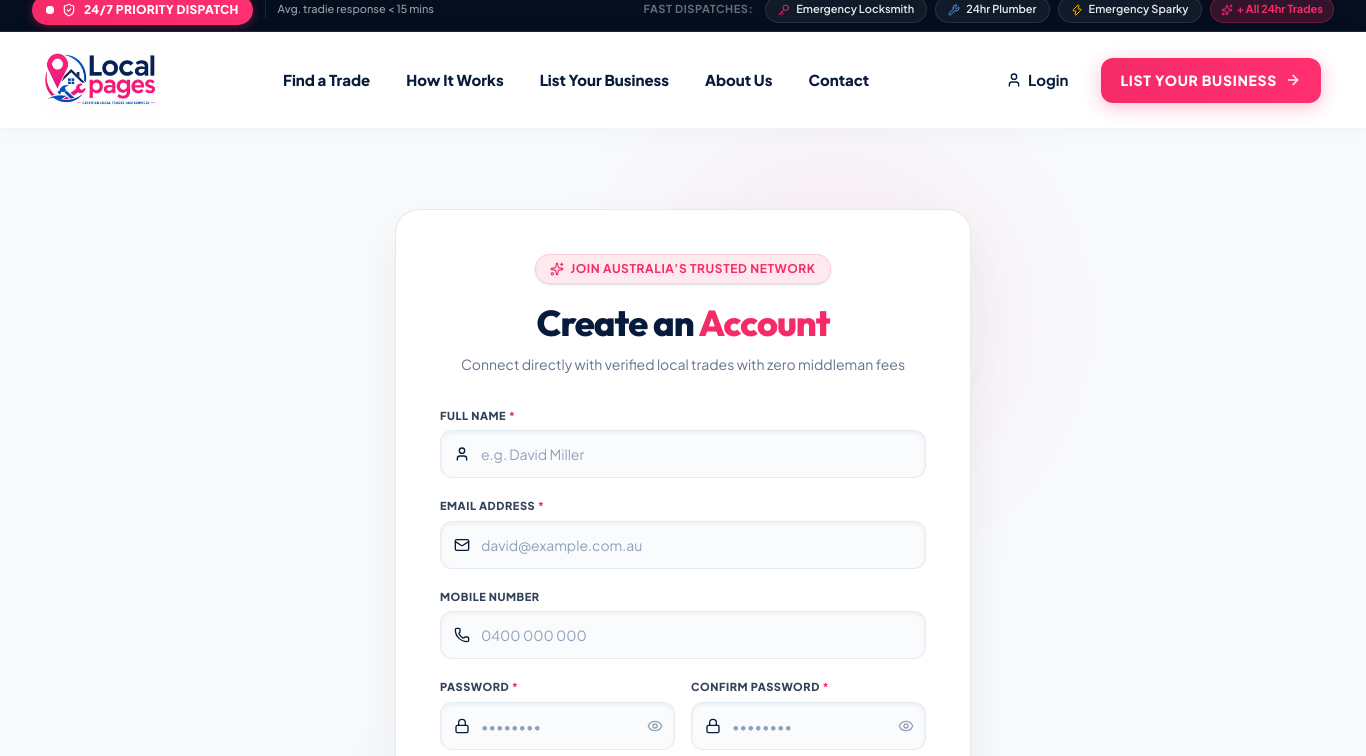
Auth Workflows › Registration › handles registration validation failure
Type "Test User" into the field labelled "Full Name *" at (683, 454), box [440,430,926,478]
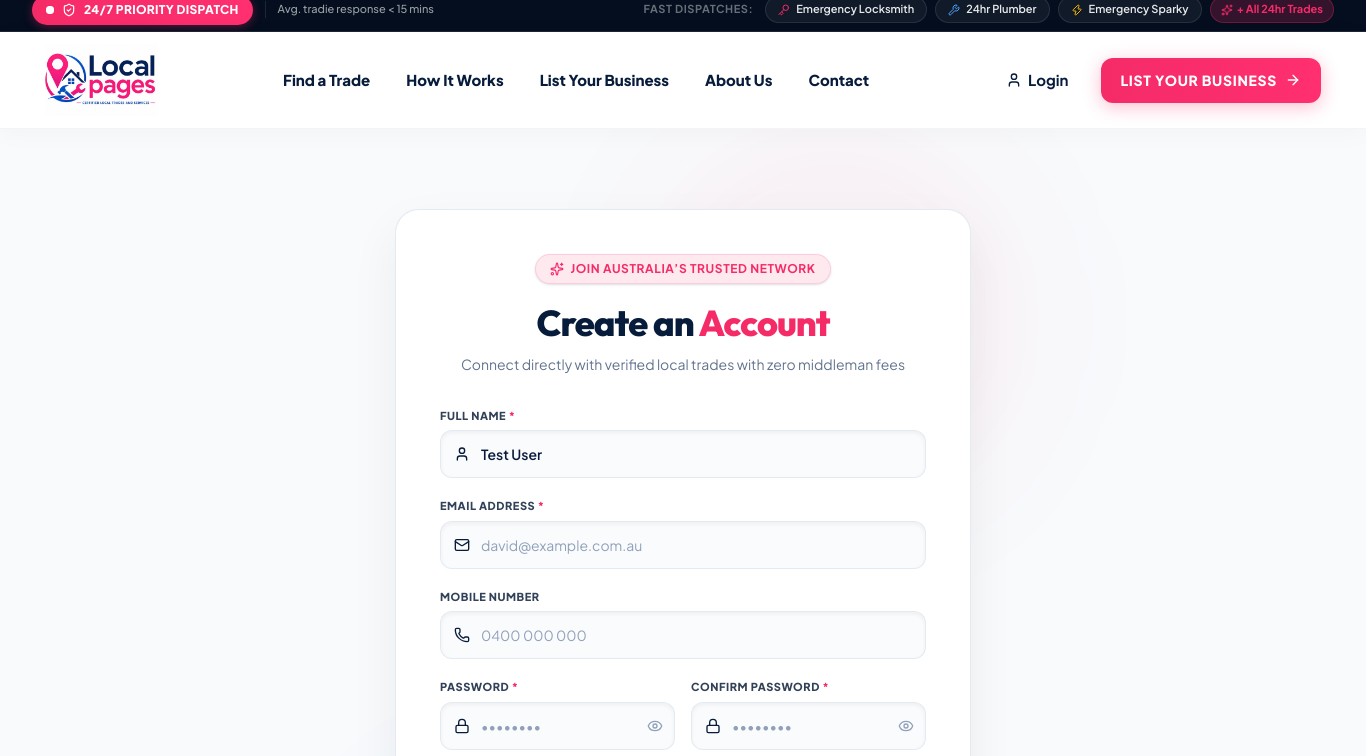
Type "test@test.com" into the field labelled "Email Address *" at (683, 545), box [440,521,926,569]
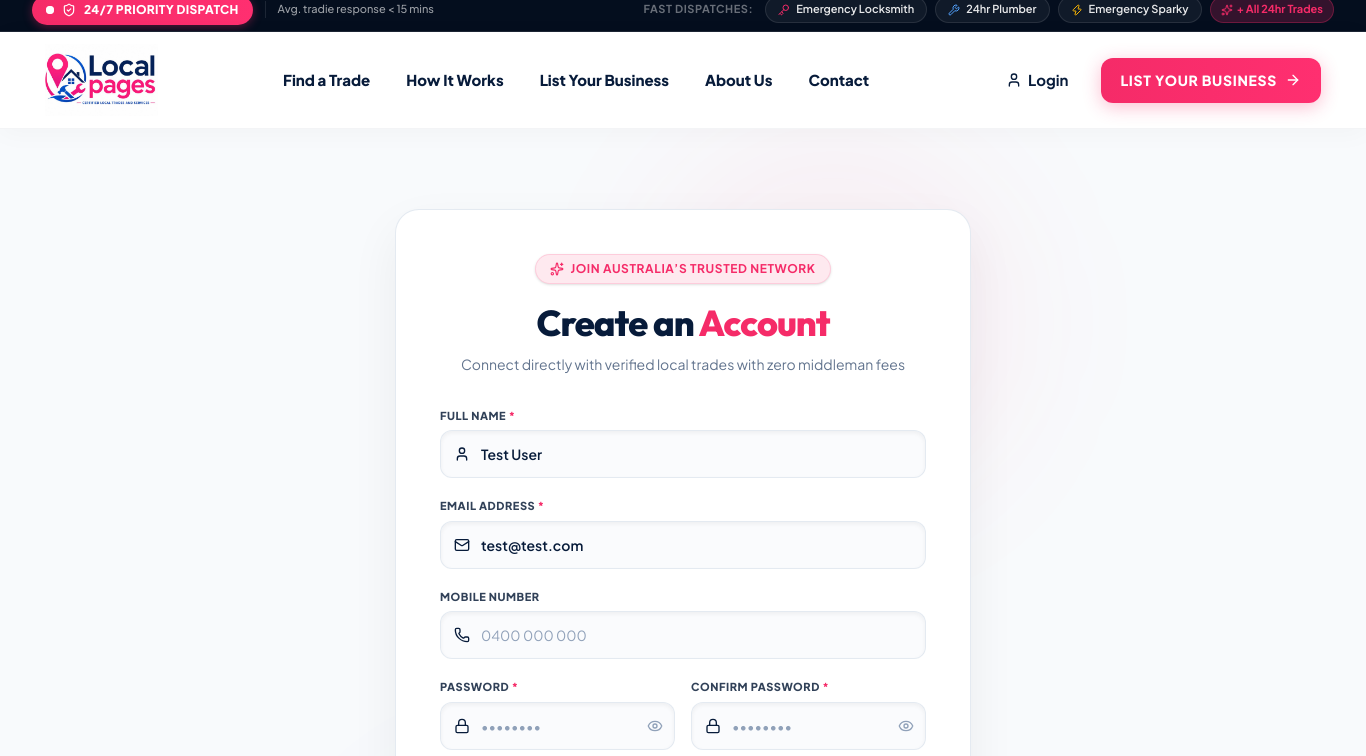
Type "password" into the password field labelled "Password *" at (558, 726), box [440,702,675,750]
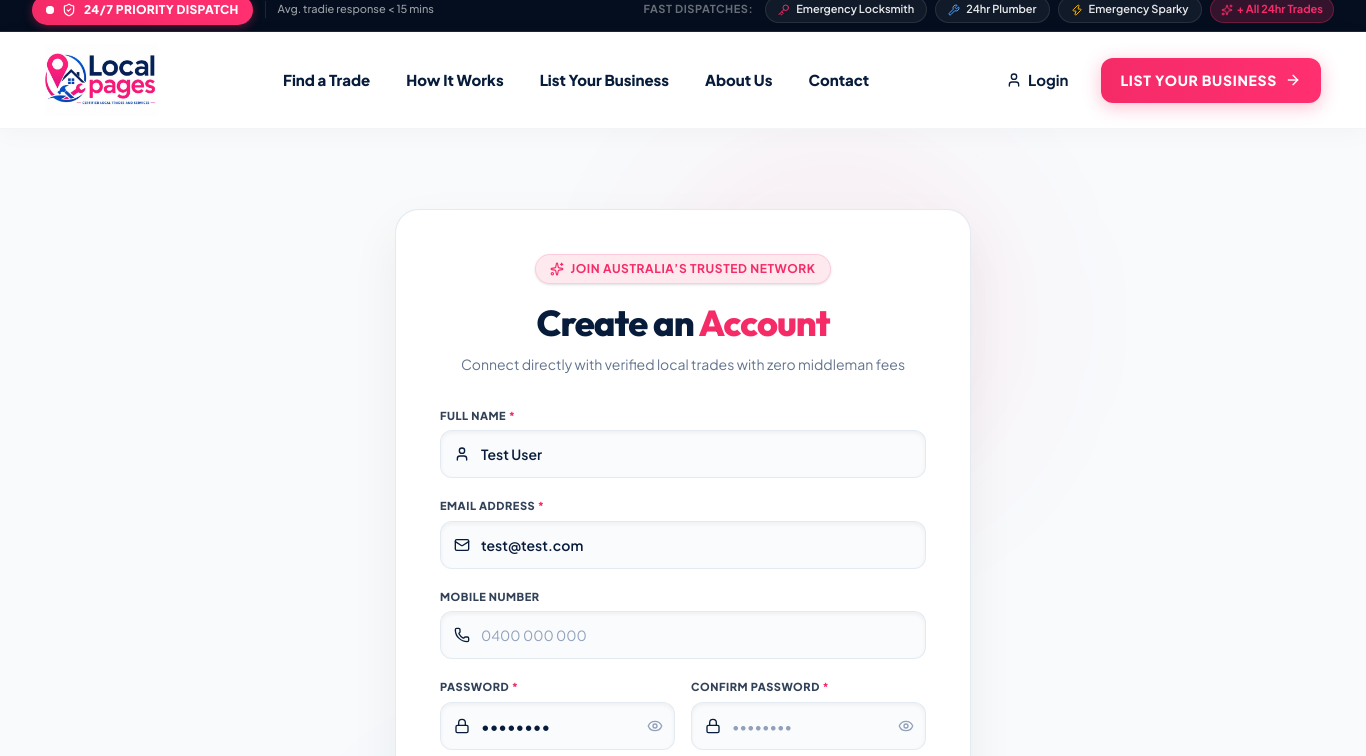
Type "password" into the password field labelled "Confirm Password *" at (808, 726), box [691,702,926,750]
(page scrolled)
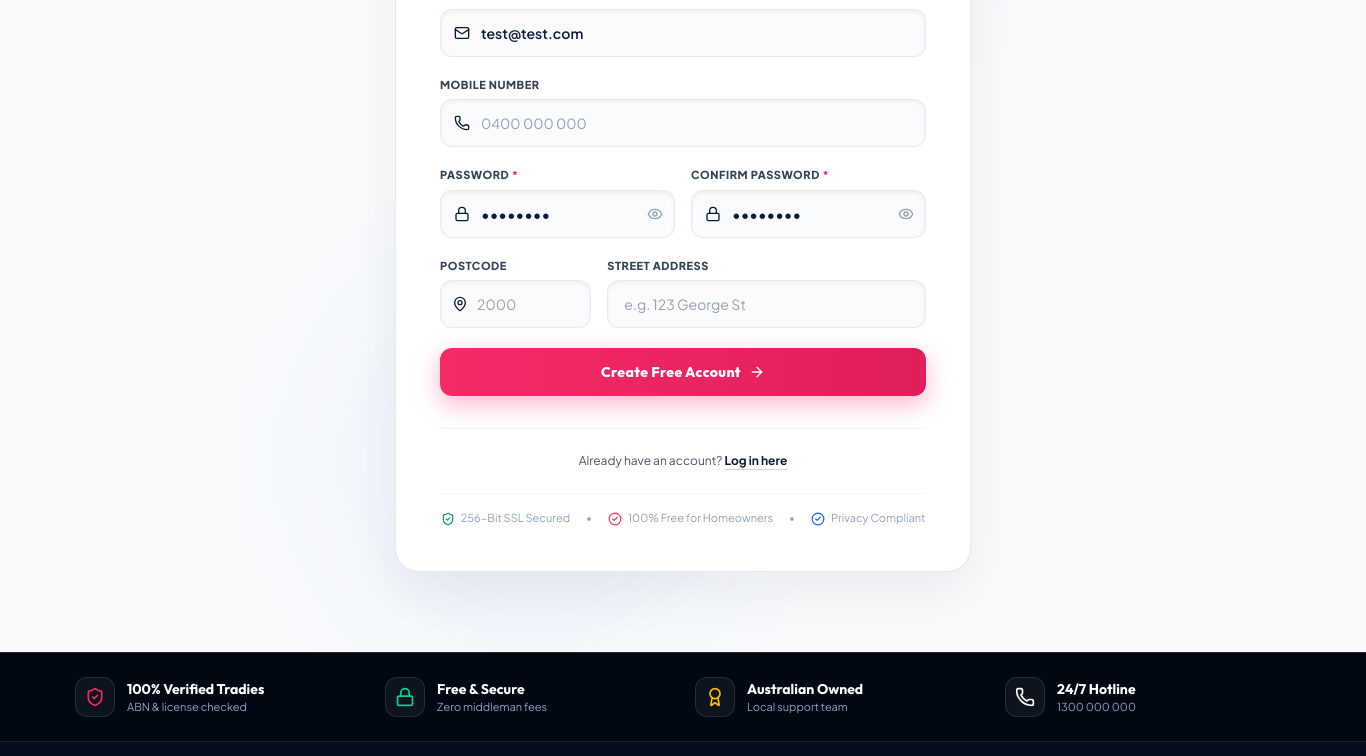
Click the button "Create Free Account" at (683, 372), box [440,348,926,396]
(page scrolled)
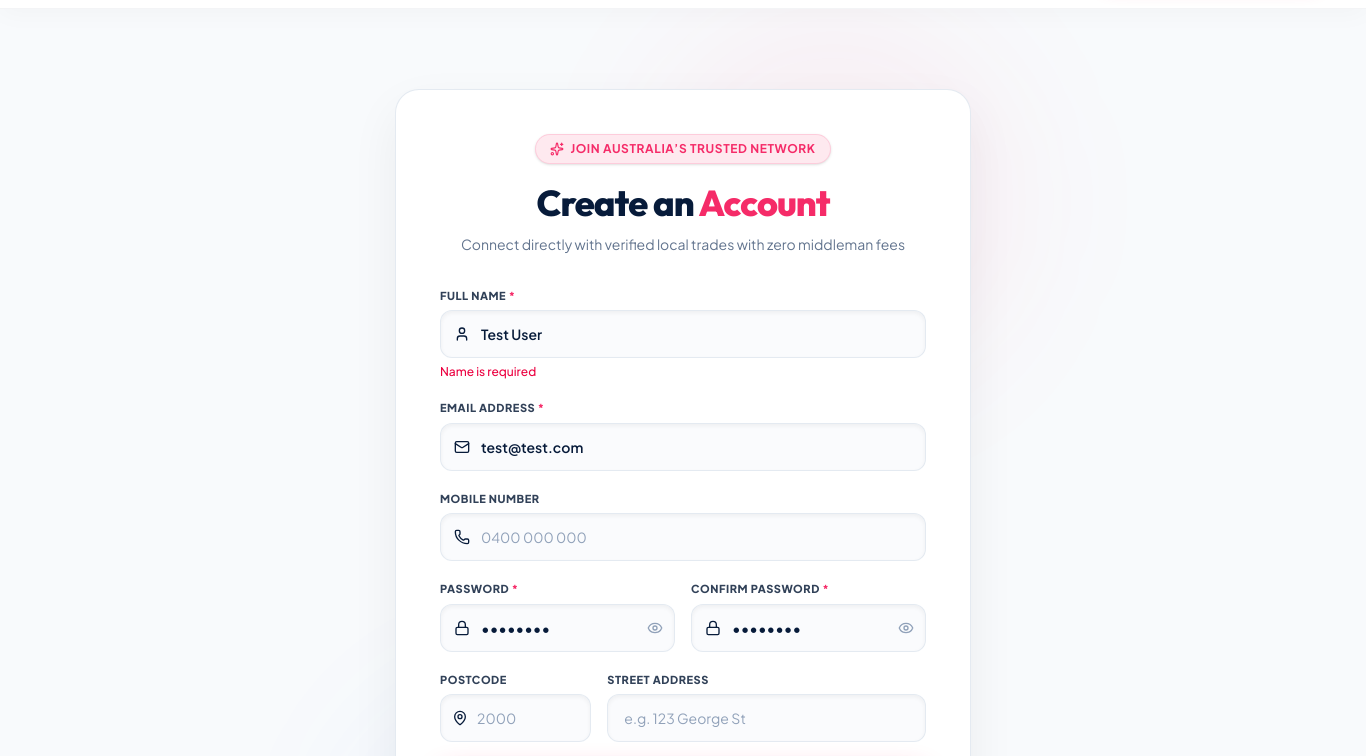
expect the text "Name is required" is shown: met, box [440,364,536,379]
